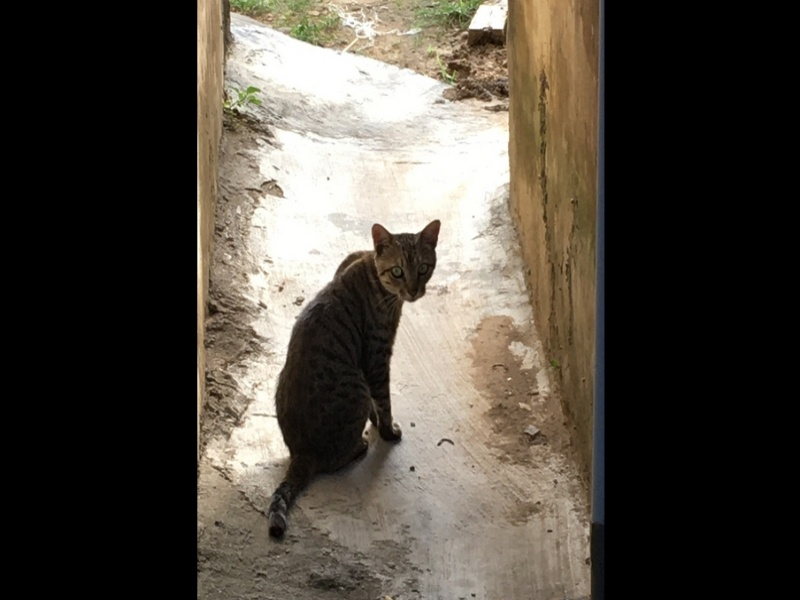cat: (259, 219, 443, 545)
